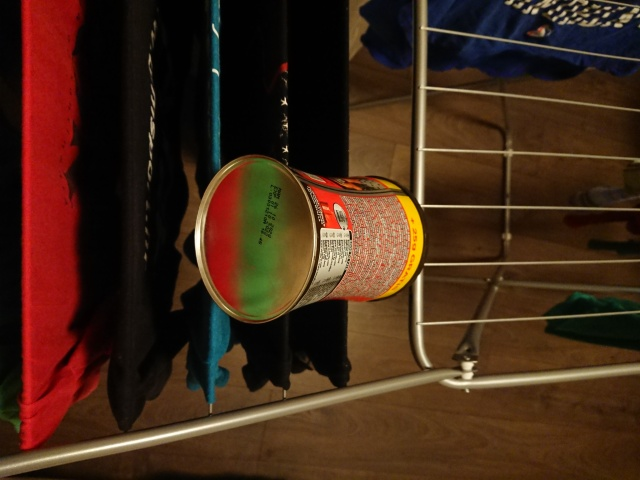Nescafe Classic 225g: (189, 151, 433, 328)
